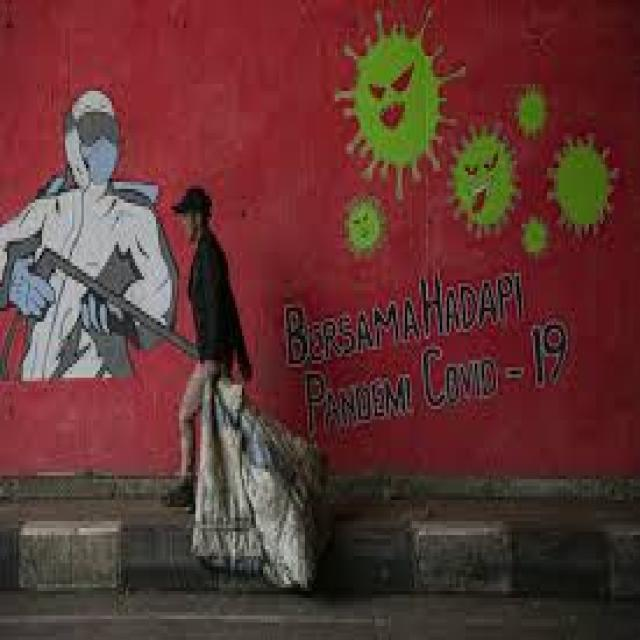-: (280, 4, 622, 442), (1, 86, 182, 384)
